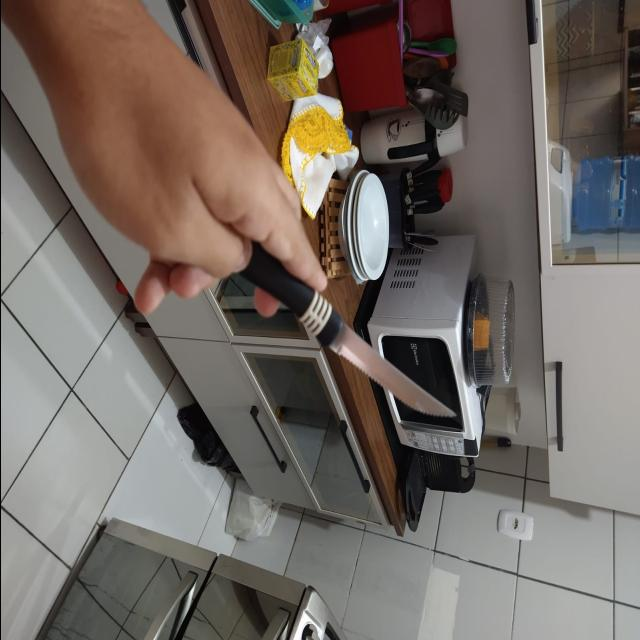knife: (231, 230, 471, 464)
